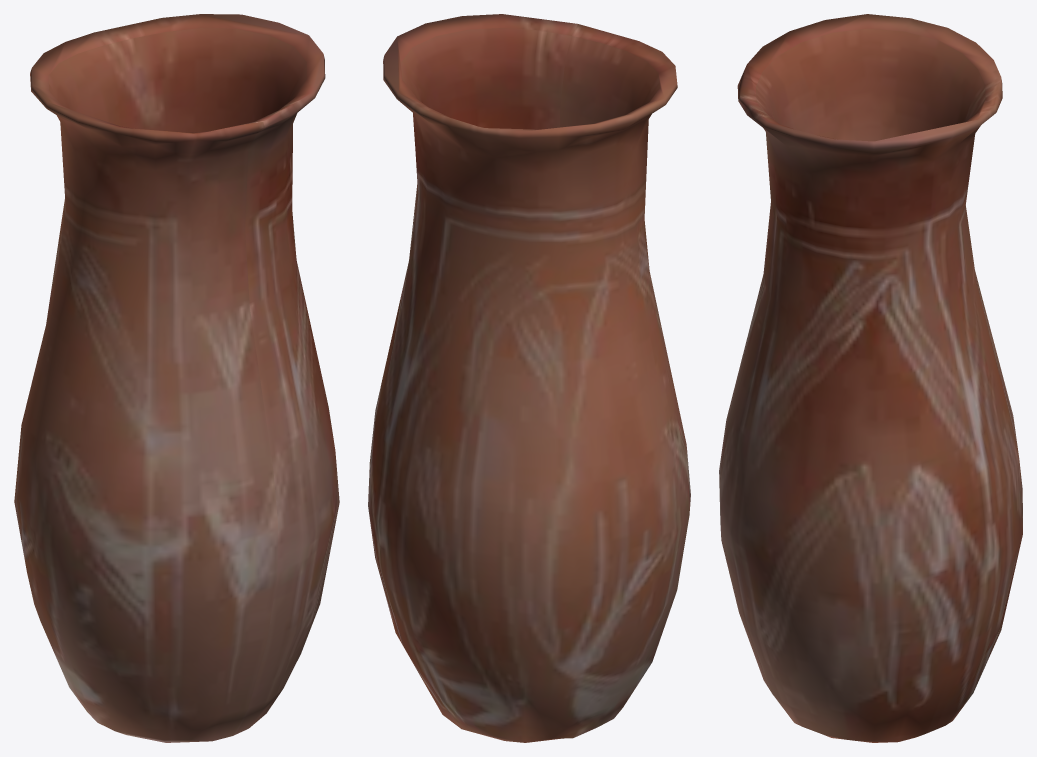
File: ancient-vase.lod0.glb
3 renders of one model, left to right at view 1: azimuth 30°, elevation 25°; view 2: azimuth 150°, elevation 25°; view 3: azimuth 270°, elevation 25°, orthographic.
Parts seen in each view (by area): view 1: Object_2; view 2: Object_2; view 3: Object_2.
Boxes of the visible parts, bbox=[...] form: Object_2: bbox=[14, 14, 339, 742]; Object_2: bbox=[368, 14, 690, 742]; Object_2: bbox=[719, 14, 1022, 742].
Size of the model in its own units: 0.3713 by 0.799 by 0.3473.
Materials: 1 (1 with a texture image).
